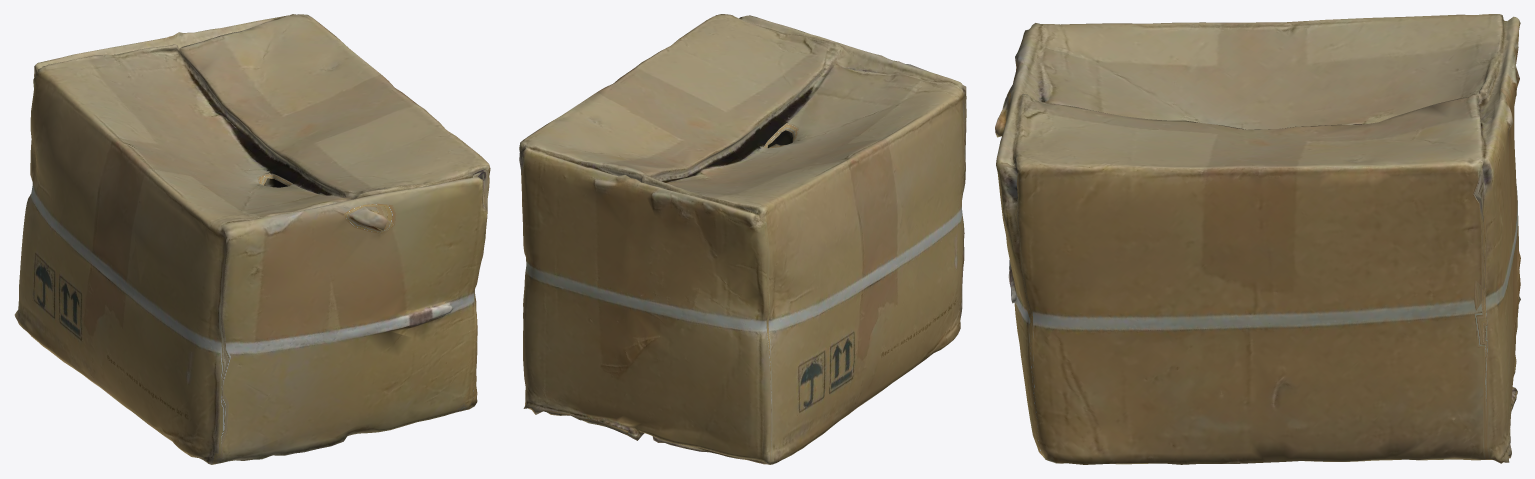
File: cardboard_box_01.glb
The picture shows the model from 3 angles, left to right: view 1: azimuth 30°, elevation 25°; view 2: azimuth 150°, elevation 25°; view 3: azimuth 270°, elevation 25°; orthographic projection. The views are drawn at different scales.
Parts seen in each view (by area): view 1: cardboard_box_01; view 2: cardboard_box_01; view 3: cardboard_box_01.
Boxes of the visible parts, x1,y1,x2,y2 form: cardboard_box_01: (14, 14, 490, 464); cardboard_box_01: (519, 14, 966, 464); cardboard_box_01: (995, 14, 1520, 464).
Bounding box in the file's own units: 0.387 × 0.3418 × 0.5159.
1 material, 1 textured.
